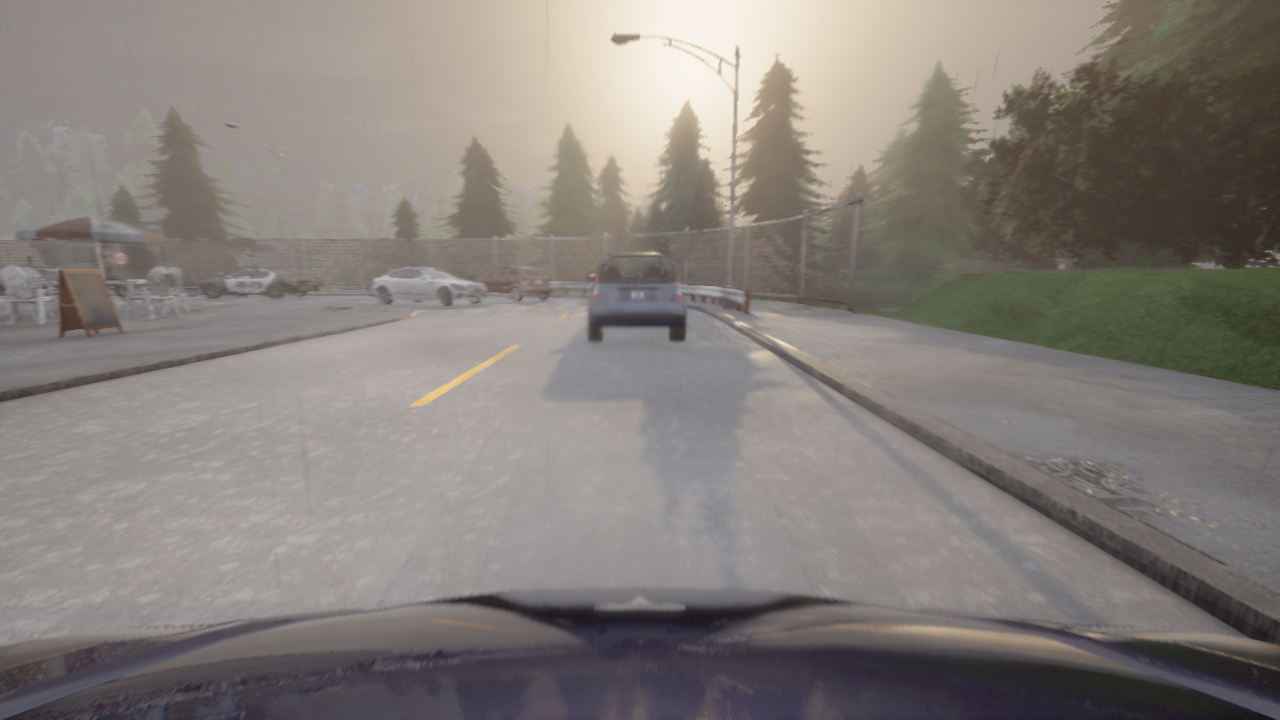cyclist: (0, 588, 1279, 719), (588, 251, 686, 341), (370, 266, 486, 306), (198, 266, 319, 298), (478, 265, 551, 301), (0, 267, 65, 295)
pedestrian: (100, 251, 125, 307)
